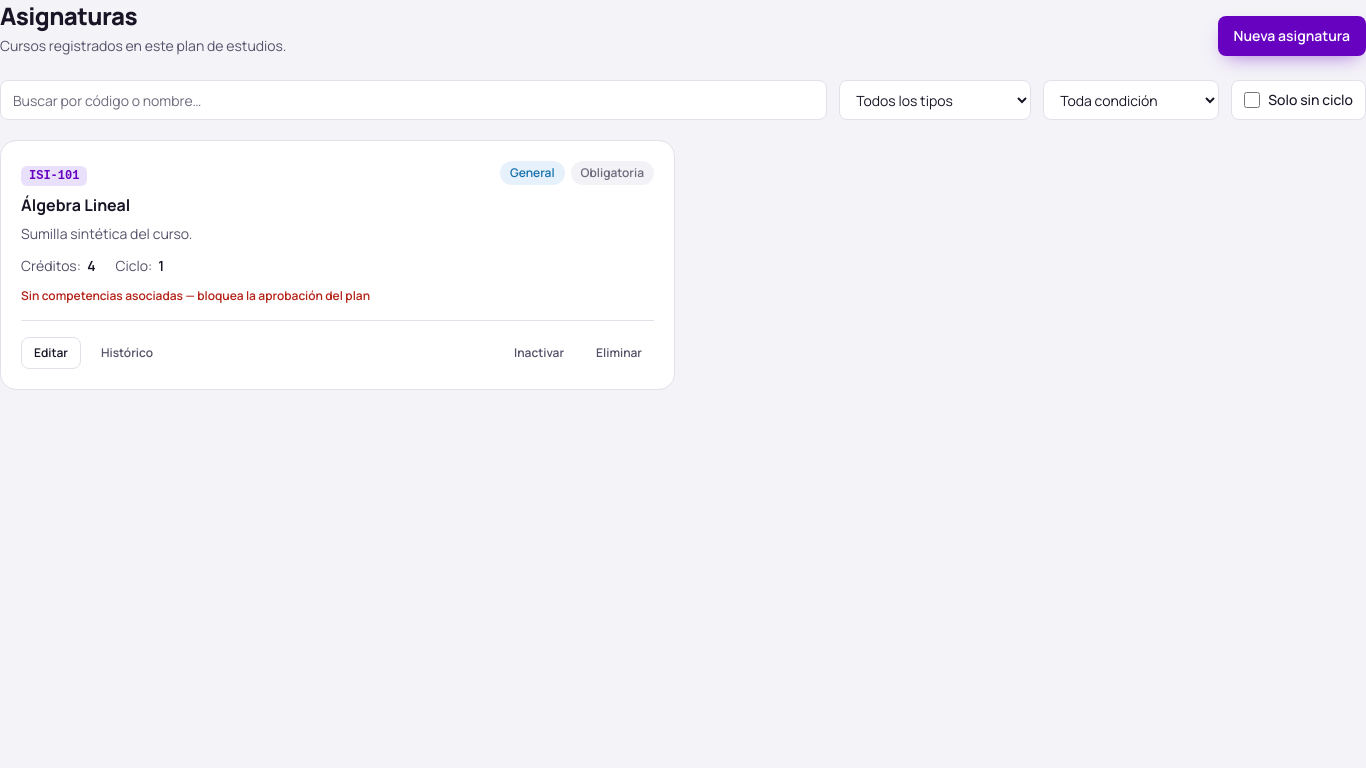
Test: AsignaturasPage — eliminar (RF-CH-019) › si el servidor lo rechaza, muestra su motivo
This screenshot has width=1366, height=768.
Click the button "Eliminar".
click(619, 353)  # box [584, 337, 654, 369]
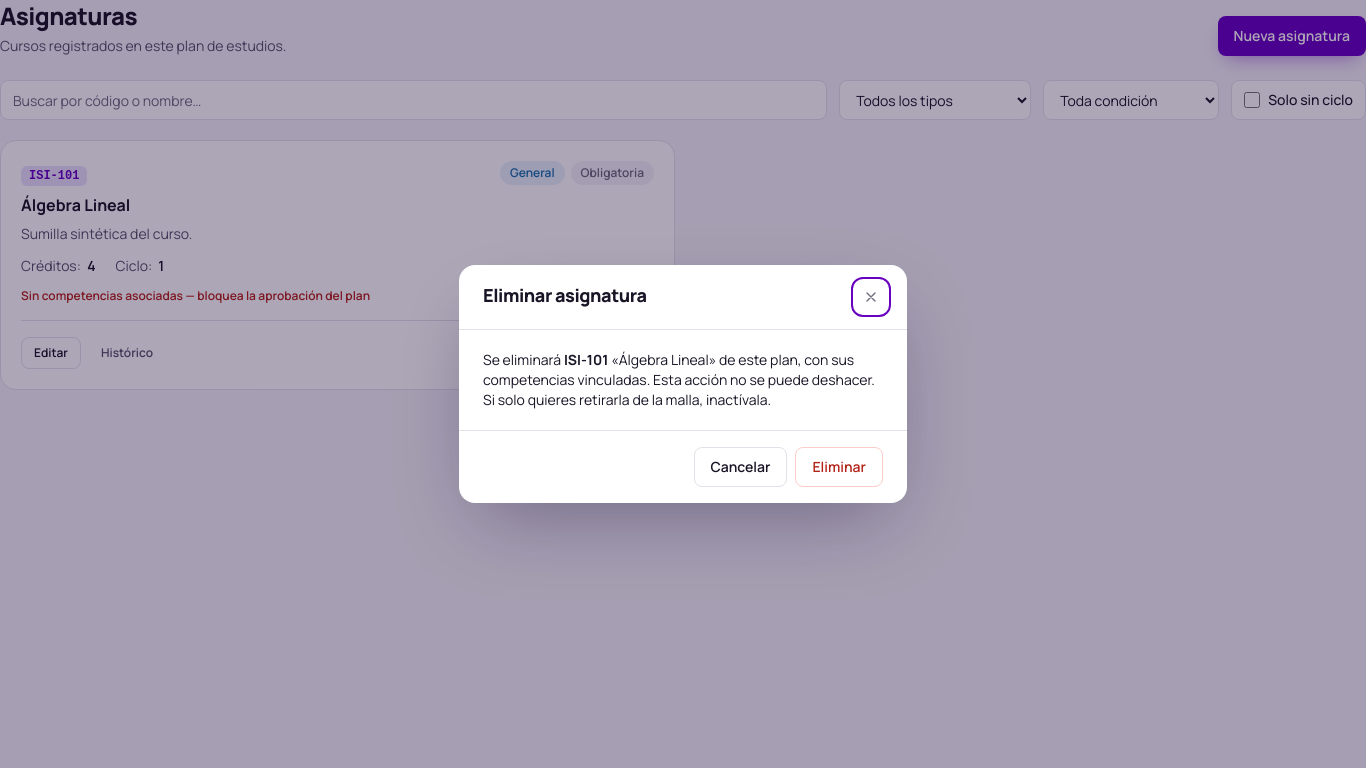
Click the button "Eliminar".
click(839, 467)  # box [795, 447, 883, 487]
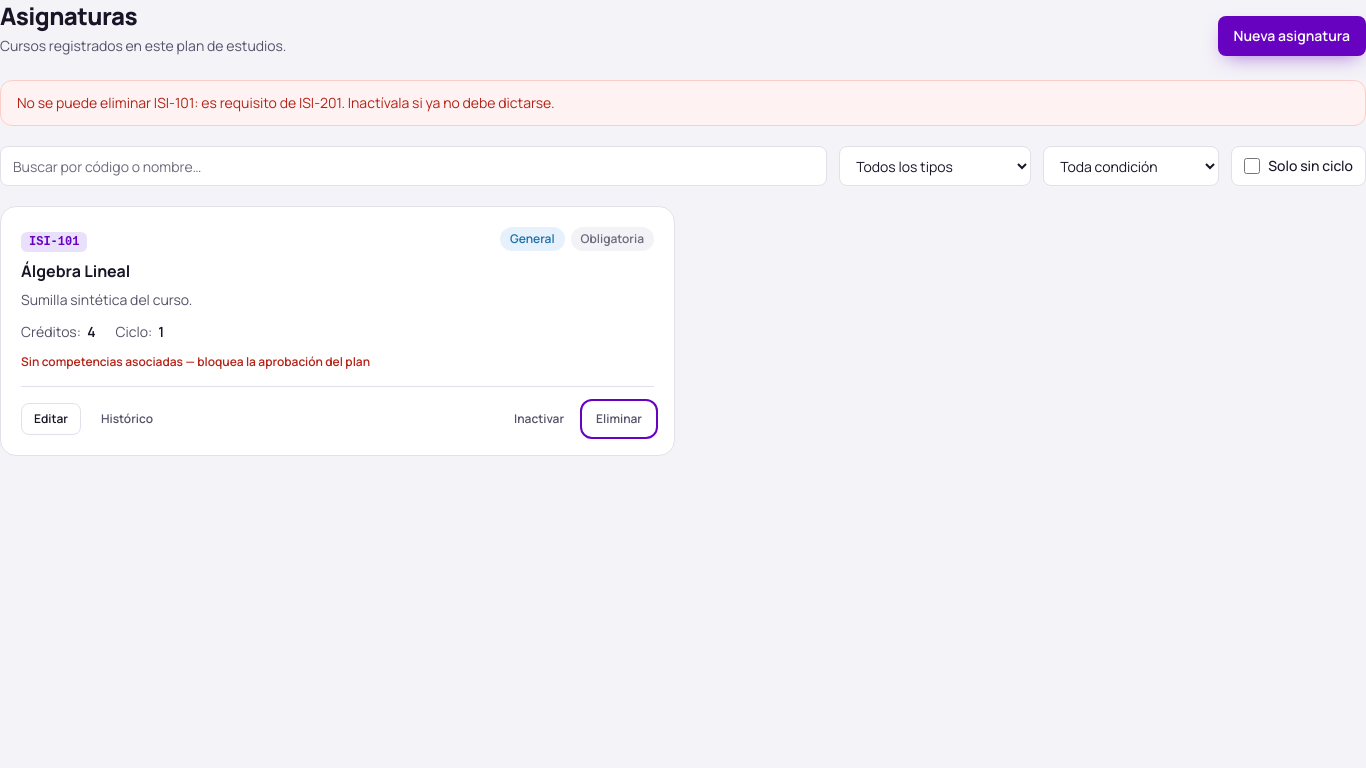
Expected: the text "es requisito de ISI-201" is shown, [17, 93, 555, 112]
